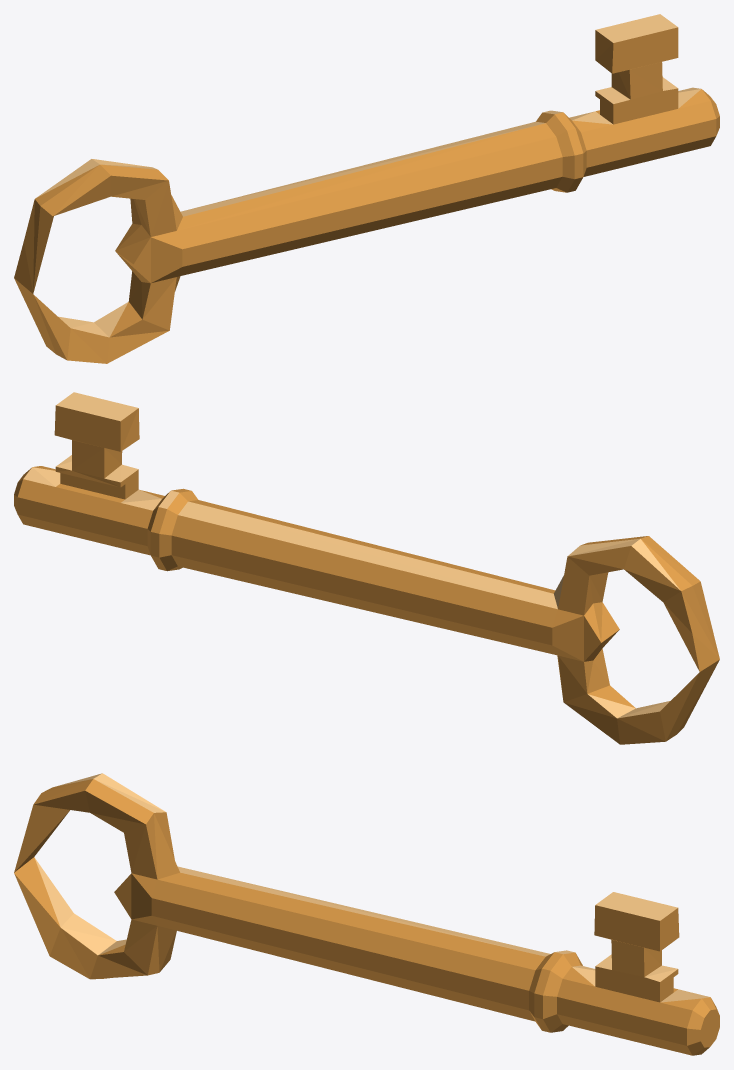
Rendered from Skeleton Key.glb.
3 views of the same model, one above another, from view 1: azimuth 30°, elevation 25°; view 2: azimuth 150°, elevation 25°; view 3: azimuth 330°, elevation 25° (orthographic).
Visible parts, largest first — view 1: group999456887; view 2: group999456887; view 3: group999456887.
Boxes of the visible parts, x1=… form: group999456887: x1=14, y1=14, x2=719, y2=363; group999456887: x1=14, y1=392, x2=719, y2=744; group999456887: x1=14, y1=773, x2=719, y2=1055.
Size of the model in its own units: 5 by 1.42 by 0.5077.
